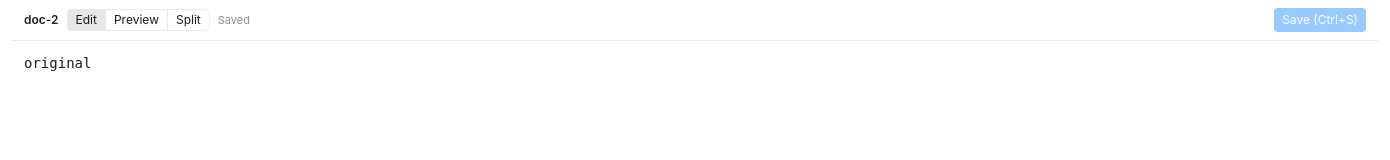
Test: MarkdownEditor Component › detects changes and enables manual save only when dirty
Check: the button "Save (Ctrl+S)" is disabled, box [1274,8,1366,32]
Replace the text in the text box with "changed" at coordinates (695, 73), box [12,41,1378,105]
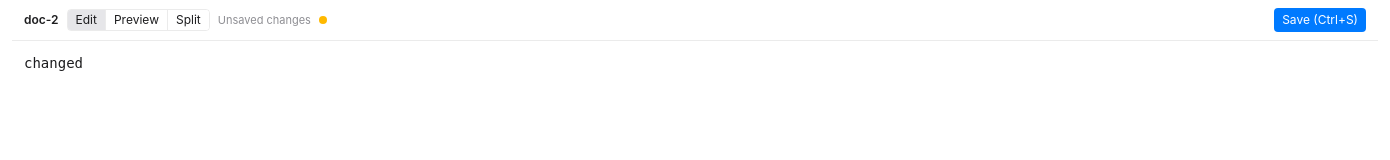
Check: the button "Save (Ctrl+S)" is enabled, box [1274,8,1366,32]
Check: the element with test id "markdown-dirty" is shown, box [319,16,327,24]
